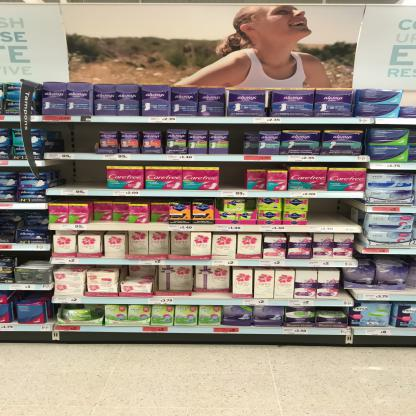Void: (312, 198, 362, 224), (58, 161, 104, 185), (58, 125, 93, 148), (220, 165, 246, 191), (123, 266, 152, 280), (230, 129, 242, 153)
